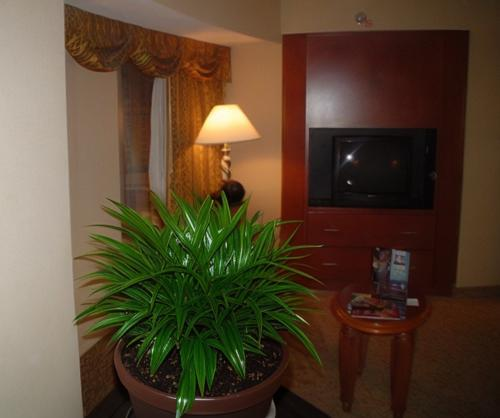person: (176, 178, 303, 314)
person/hand: (280, 274, 296, 293), (175, 278, 188, 292)
person/head: (220, 181, 245, 217)
pottedplant: (73, 190, 327, 415)
